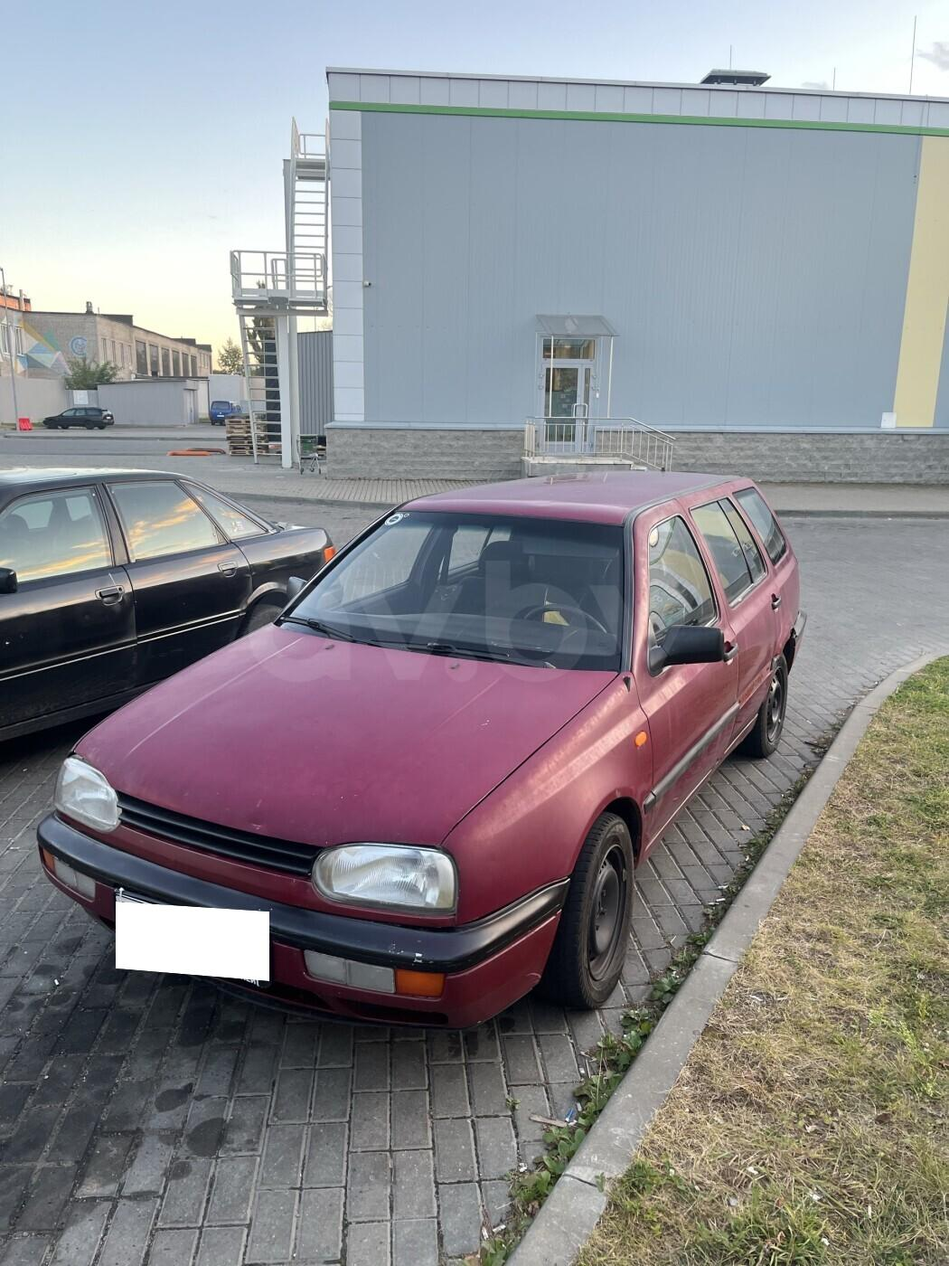Golf_1991-2000: (41, 466, 802, 1013)
